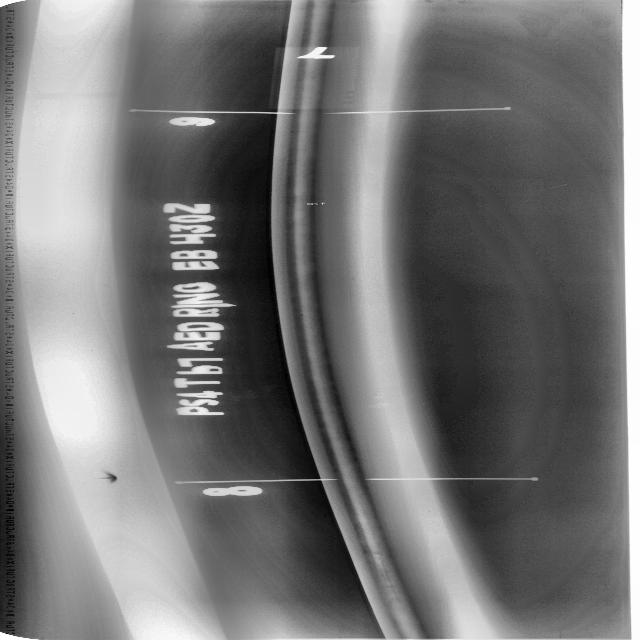porosity: (305, 203, 314, 206), (299, 313, 304, 316)
